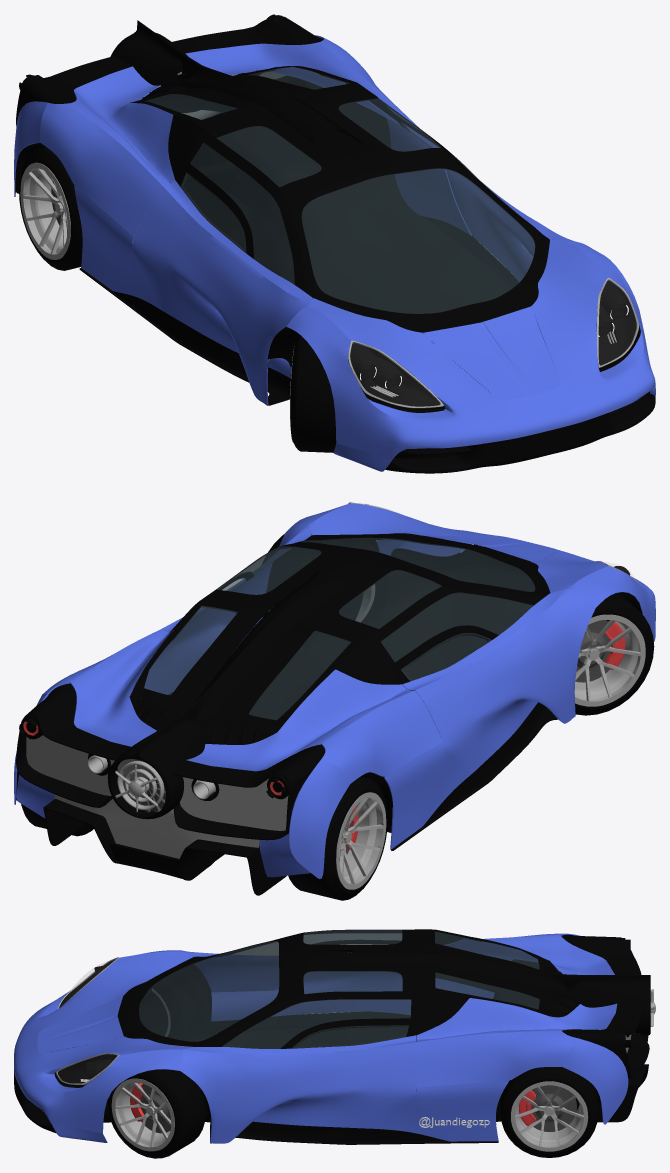
Rendered from gma-t50-high.glb.
The picture shows the model from 3 angles, top to bottom: view 1: azimuth 30°, elevation 25°; view 2: azimuth 150°, elevation 25°; view 3: azimuth 270°, elevation 25°; orthographic projection. The views are drawn at different scales.
Parts seen in each view (by area): view 1: body, wheel_rear_right, wheel_front_right; view 2: body, wheel_front_right, wheel_rear_right, wheel_front_left; view 3: body, wheel_rear_left, wheel_front_left, wheel_front_right.
Part boxes in pixels (bbox=[...]): body: bbox=[14, 14, 655, 473]; wheel_rear_right: bbox=[19, 147, 82, 270]; wheel_front_right: bbox=[290, 334, 336, 452]; body: bbox=[14, 502, 655, 895]; wheel_front_right: bbox=[574, 593, 654, 715]; wheel_rear_right: bbox=[288, 776, 387, 900]; wheel_front_left: bbox=[268, 534, 388, 623]; body: bbox=[14, 929, 655, 1144]; wheel_rear_left: bbox=[500, 1067, 598, 1157]; wheel_front_left: bbox=[107, 1069, 205, 1158]; wheel_front_right: bbox=[152, 978, 198, 1040].
Bounding box in the file's own units: 2.19 × 1.12 × 4.35.
